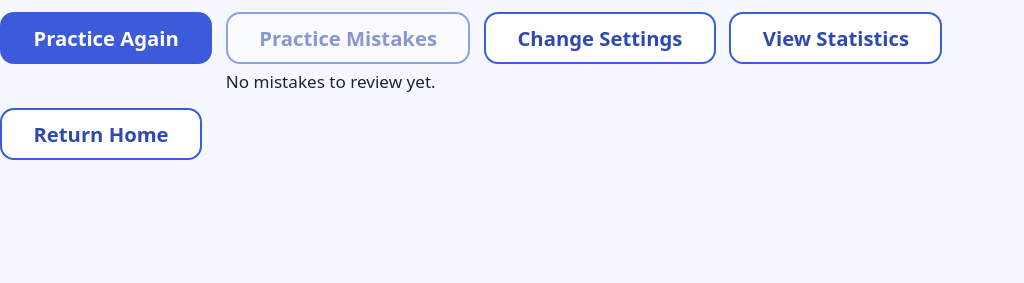
Scenario: SummaryActions › keeps the settings choices hidden until Change Settings is opened
Expected: the link "Practice Setup" is not shown
Expected: the link "App Settings" is not shown
Click the button "Change Settings" at point(600, 38), box top-left (484, 12), bottom-right (716, 64)
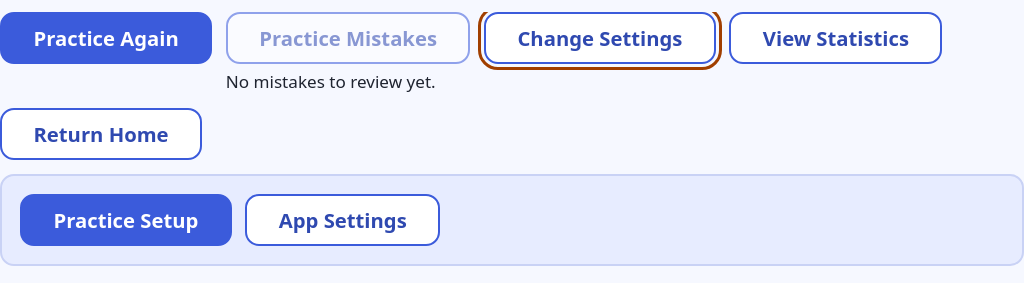
Now the link "Practice Setup" is shown, box top-left (20, 194), bottom-right (232, 246)
Now the link "App Settings" is shown, box top-left (245, 194), bottom-right (440, 246)
Click the button "Change Settings" at point(600, 38), box top-left (484, 12), bottom-right (716, 64)
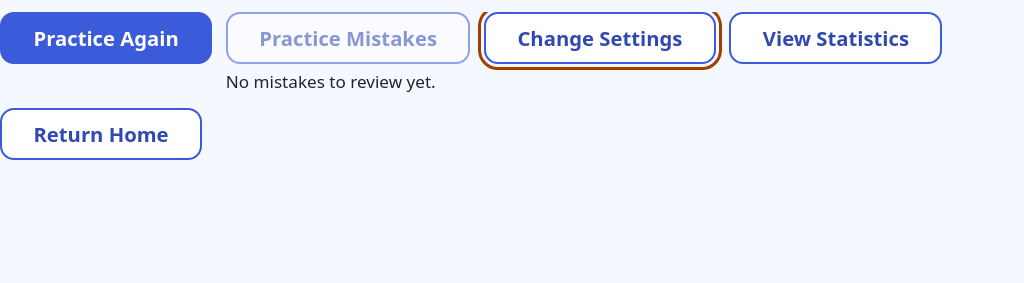
Now the link "Practice Setup" is gone
